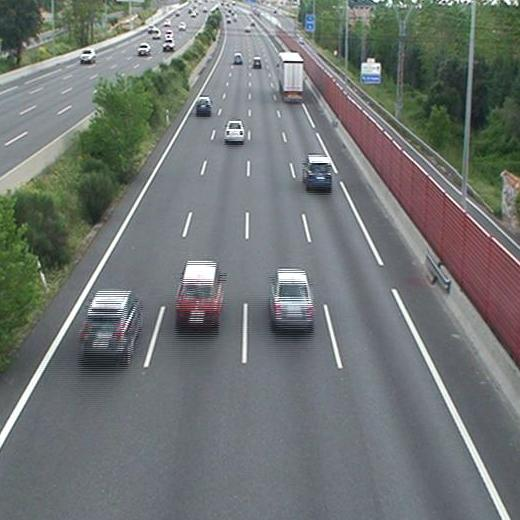car: (81, 292, 142, 356), (177, 261, 223, 324), (271, 270, 313, 327), (304, 156, 332, 187), (224, 121, 245, 142), (196, 98, 211, 113), (252, 56, 262, 68), (233, 55, 242, 63)
truck: (279, 53, 303, 100)
